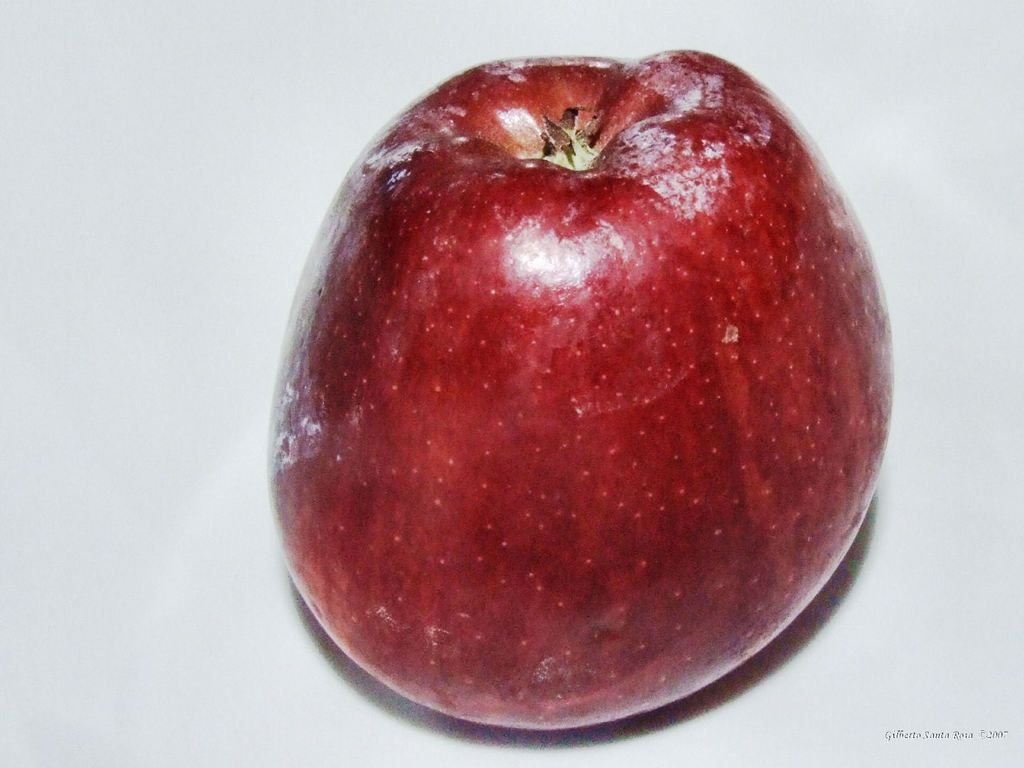Apple: (261, 42, 876, 741)
